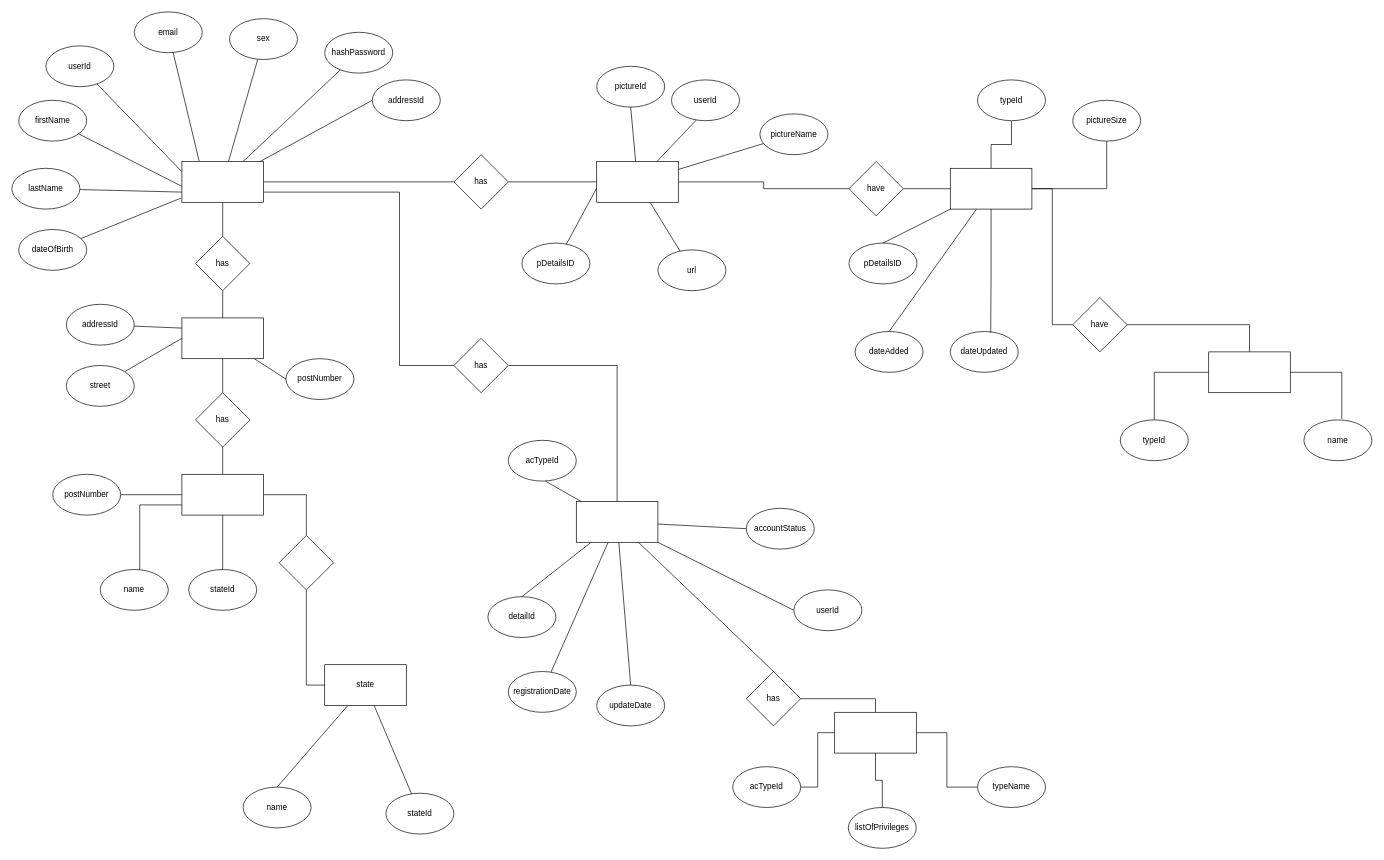
Image size: 1384x860. Some labels were removed from this diagram. Each missing label, with the centre of its shape:
accountType: point (875, 732)
address: point (222, 338)
city: point (222, 494)
is in: point (306, 562)
pictureDetails: point (991, 188)
pictureType: point (1249, 372)
profile: point (222, 181)
profileDetails: point (617, 521)
profilePicture: point (637, 181)
